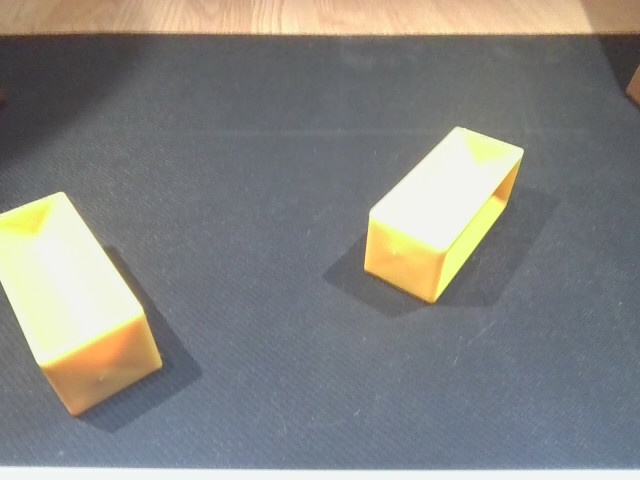YellowSample: (1, 187, 169, 416), (361, 123, 528, 314)
